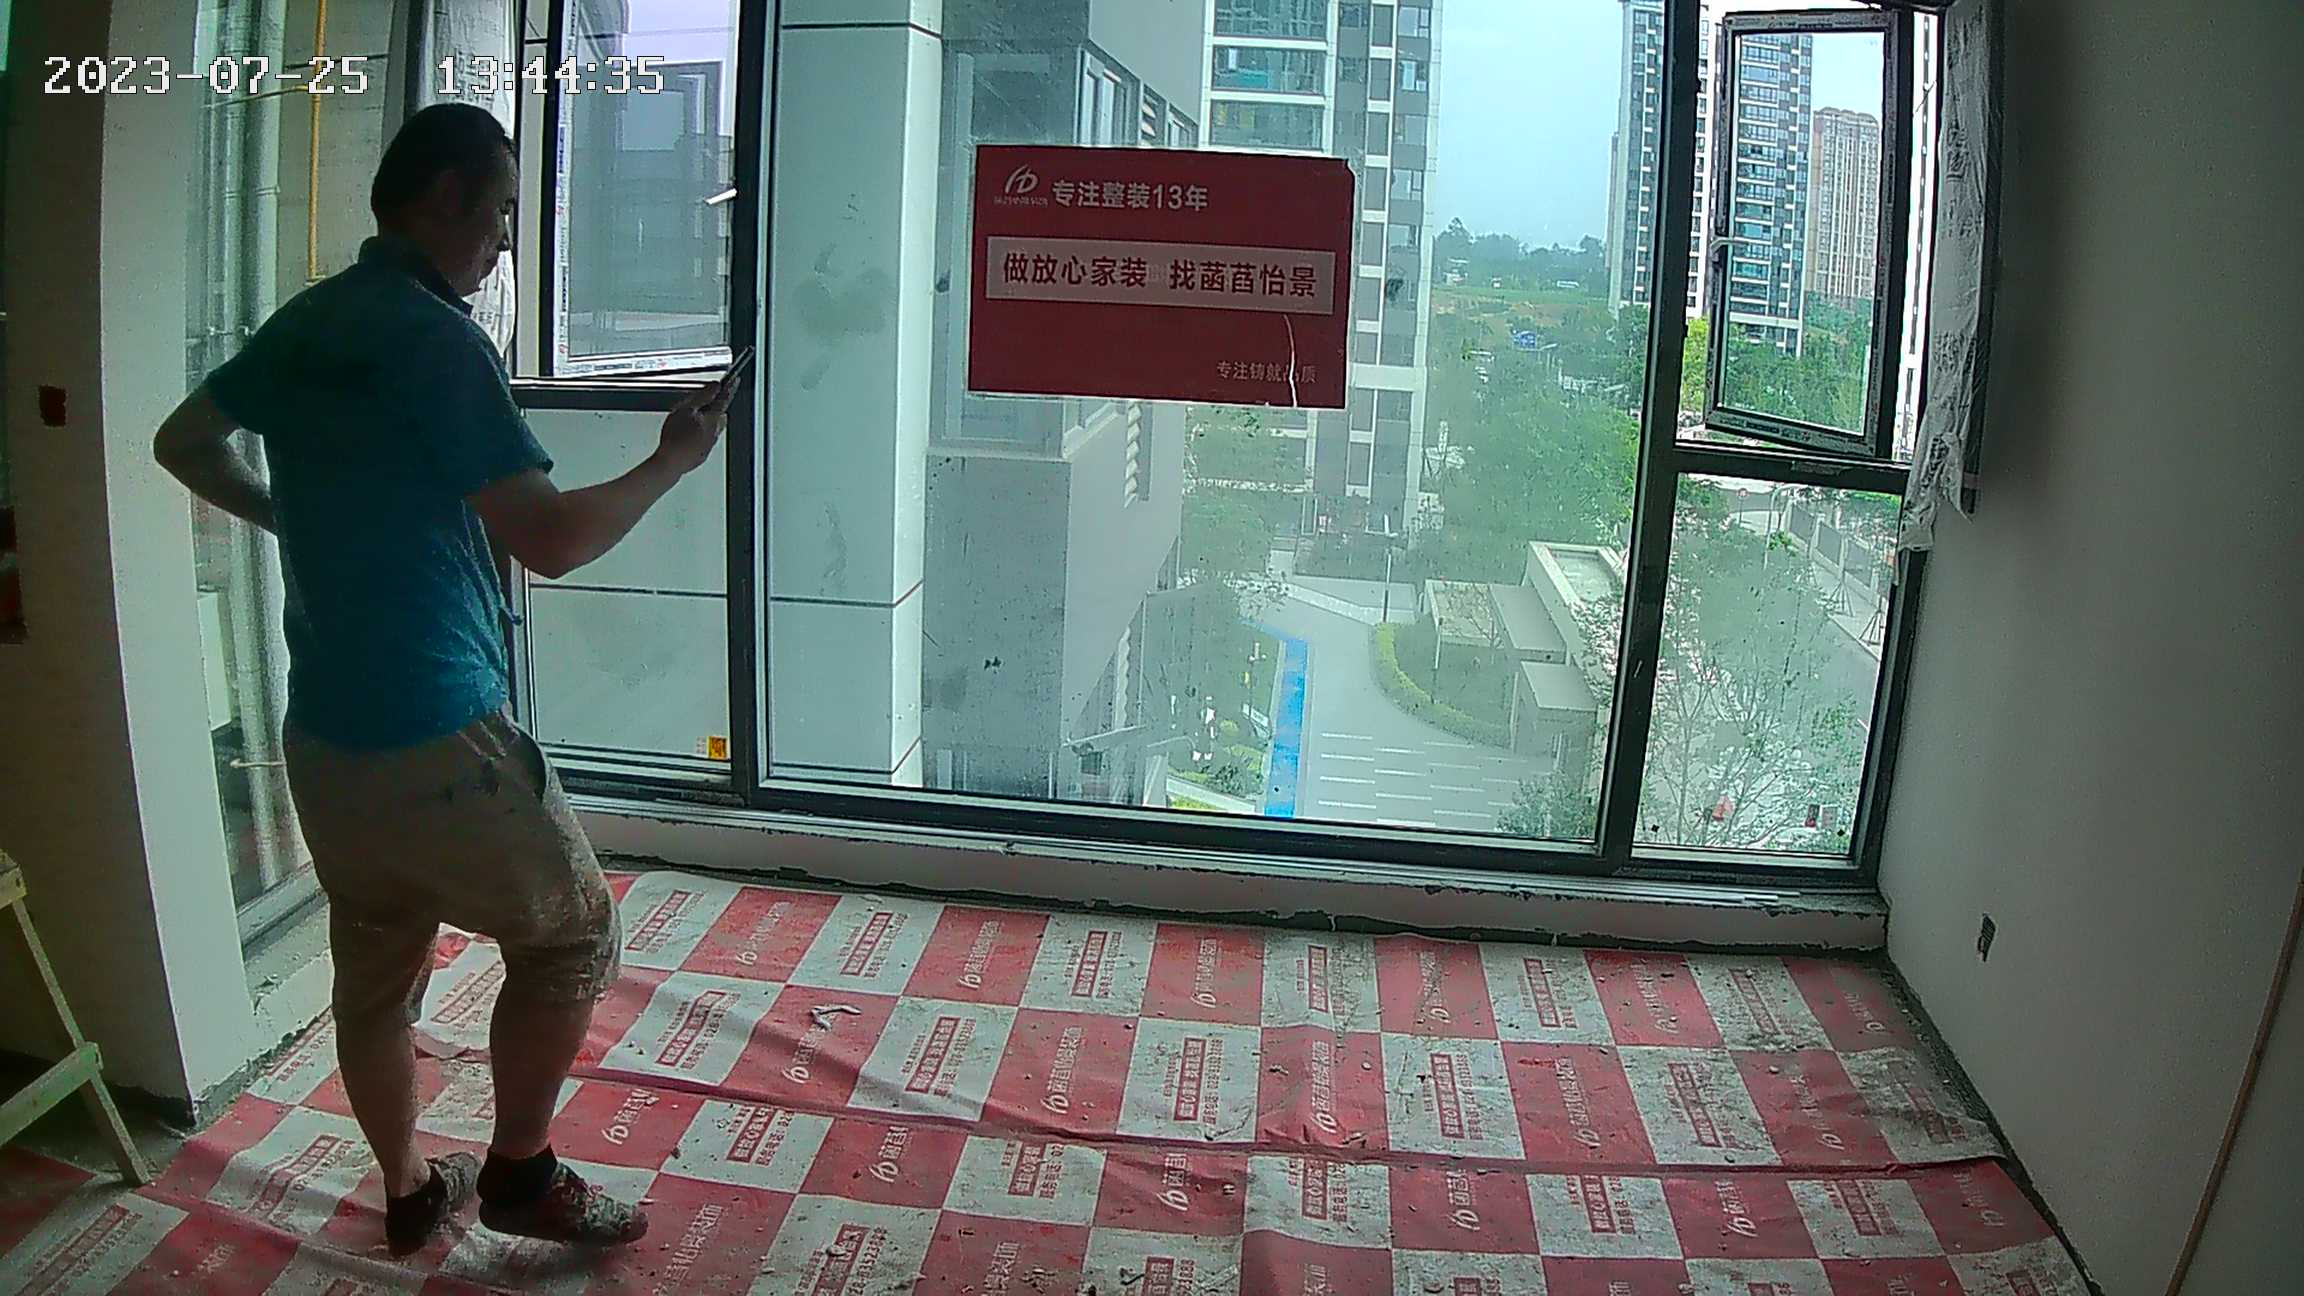people: (156, 101, 732, 1260)
window: (417, 5, 1907, 880)
